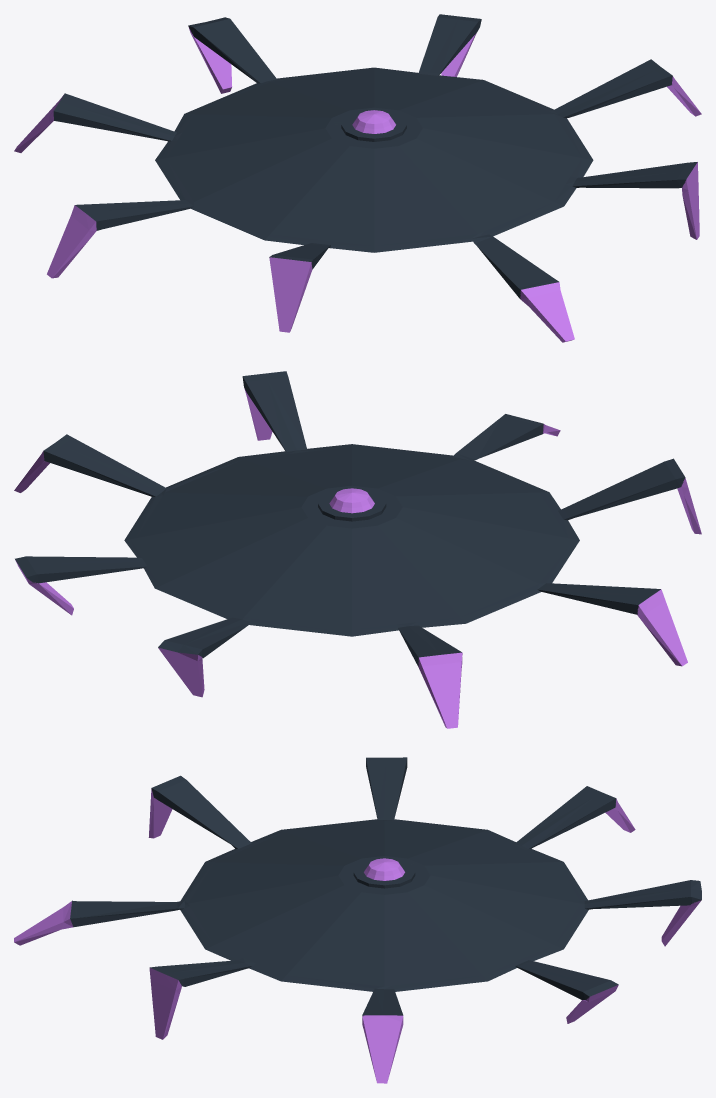
Rendered from Spider_Walk_000001.obj.
3 renders of one model, top to bottom at view 1: azimuth 30°, elevation 25°; view 2: azimuth 150°, elevation 25°; view 3: azimuth 270°, elevation 25°, orthographic. The views are drawn at different scales.
Parts seen in each view (by area): view 1: Circle_Circle.001; view 2: Circle_Circle.001; view 3: Circle_Circle.001.
Boxes of the visible parts, x1,y1,x2,y2 form: Circle_Circle.001: (14,14,701,342); Circle_Circle.001: (14,371,701,728); Circle_Circle.001: (14,757,701,1083).
Bounding box in the file's own units: 3.41 × 0.4392 × 3.32.
